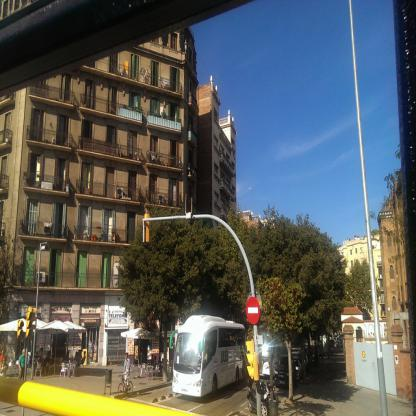Bus: (168, 312, 245, 400)
Car: (274, 354, 297, 388), (305, 349, 314, 370), (294, 361, 302, 381)
